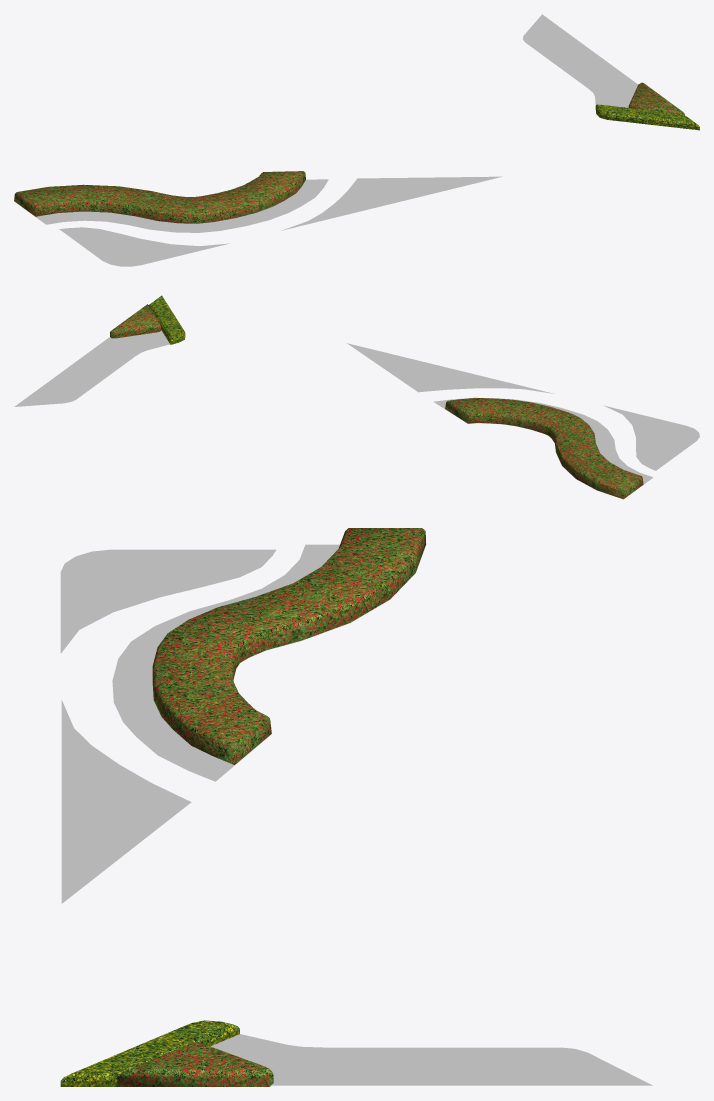
The model's file is Office_003_grass.FBX.
3 renders of one model, top to bottom at view 1: azimuth 30°, elevation 25°; view 2: azimuth 150°, elevation 25°; view 3: azimuth 270°, elevation 25°, orthographic. The views are drawn at different scales.
Visible parts, largest first — view 1: lv, H, HUANG; view 2: lv, H, HUANG; view 3: lv, H, HUANG.
Boxes of the visible parts, x1,y1,x2,y2 form: lv: (14, 14, 637, 266); H: (14, 82, 684, 223); HUANG: (595, 104, 699, 130); lv: (14, 330, 699, 499); H: (110, 304, 643, 499); HUANG: (148, 295, 185, 344); lv: (60, 544, 652, 1085); H: (117, 528, 425, 1086); HUANG: (60, 1020, 239, 1086).
Bounding box in the file's own units: 95.31 × 1.72 × 44.26.
